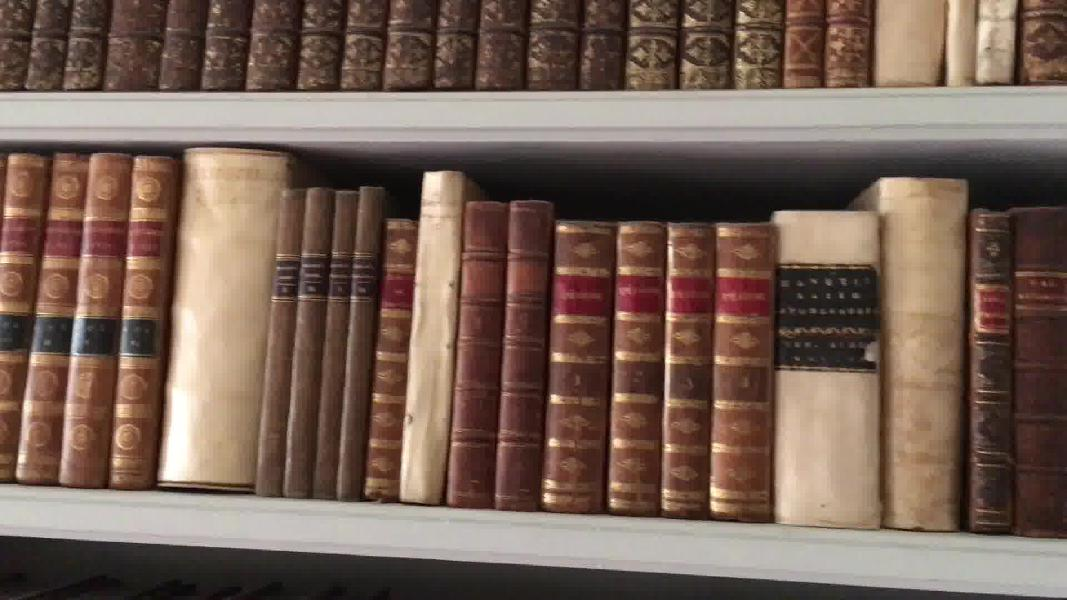Kk4-14: (158, 145, 286, 494)
Kk4-15_16: (258, 181, 333, 500)
Kk4-17_18: (313, 186, 383, 500)
Kk4-19: (360, 208, 422, 503)
Kk4-20: (395, 167, 460, 508)
Kk4-21_22: (443, 195, 554, 512)
Kk4-23_26: (538, 216, 781, 522)
Kk4-27: (767, 203, 887, 531)
Kk4-28: (873, 172, 967, 536)
Kk4-29: (965, 199, 1017, 541)
Kk4-30: (1013, 204, 1065, 539)
Kk4-8_13: (1, 150, 178, 490)
